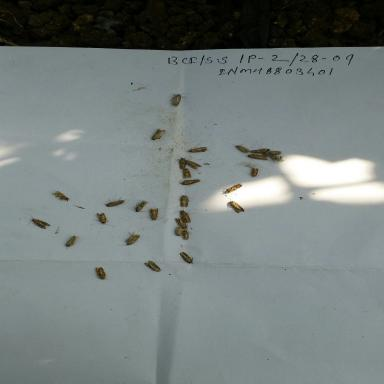pbw: (160, 90, 190, 109), (138, 257, 166, 277), (88, 264, 115, 282), (173, 249, 200, 267), (147, 125, 170, 144), (244, 165, 268, 183), (116, 230, 142, 246), (168, 207, 192, 224), (58, 233, 83, 249), (26, 214, 51, 230), (140, 206, 166, 221), (94, 212, 118, 228), (220, 181, 245, 196), (225, 197, 246, 214), (185, 145, 213, 157), (172, 193, 194, 208), (132, 197, 150, 215), (103, 196, 128, 207), (247, 152, 273, 162), (176, 179, 204, 188), (169, 217, 195, 226), (51, 190, 70, 202), (178, 228, 197, 240), (264, 146, 286, 156), (173, 158, 190, 170), (269, 154, 286, 163), (184, 160, 201, 169), (249, 148, 271, 154), (181, 168, 193, 179), (236, 144, 249, 153), (175, 226, 183, 237)
